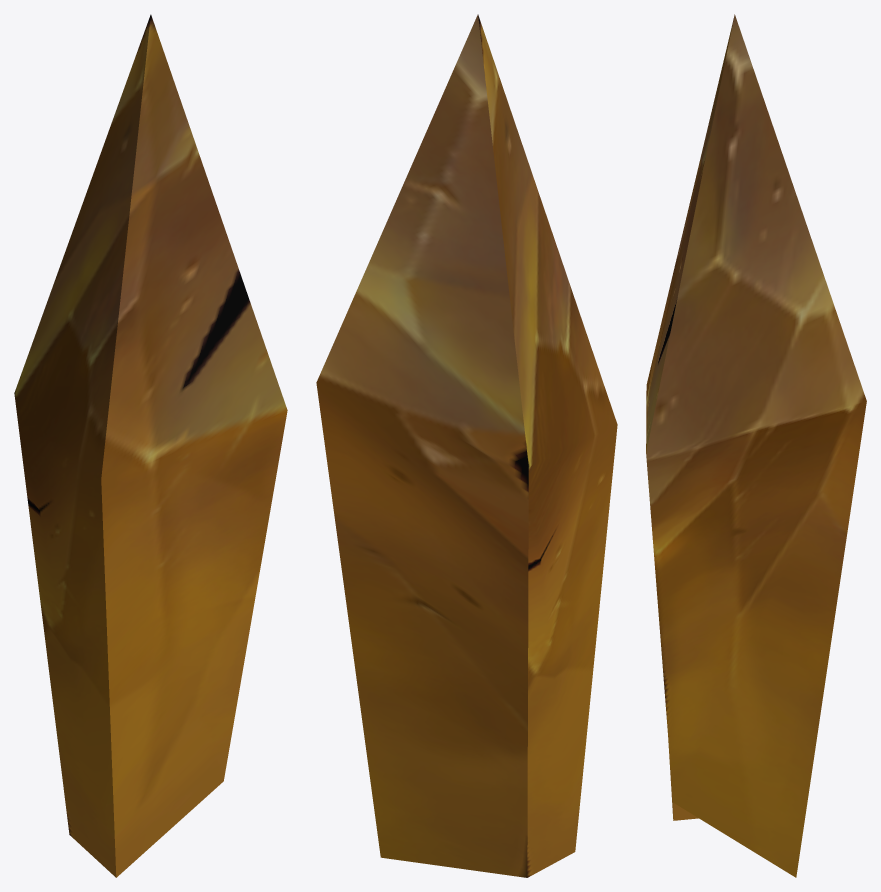
Rendered from fb_csd_zj_27_a 1.FBX.
3 views of the same model, side by side, from view 1: azimuth 30°, elevation 25°; view 2: azimuth 150°, elevation 25°; view 3: azimuth 270°, elevation 25° (orthographic). The views are drawn at different scales.
Visible parts, largest first — view 1: Box003; view 2: Box003; view 3: Box003.
Boxes of the visible parts, <box> form: Box003: <box>14,14,287,877</box>; Box003: <box>316,14,617,877</box>; Box003: <box>646,14,866,877</box>.
Bounding box in the file's own units: 13.47 × 57.1 × 13.62.
